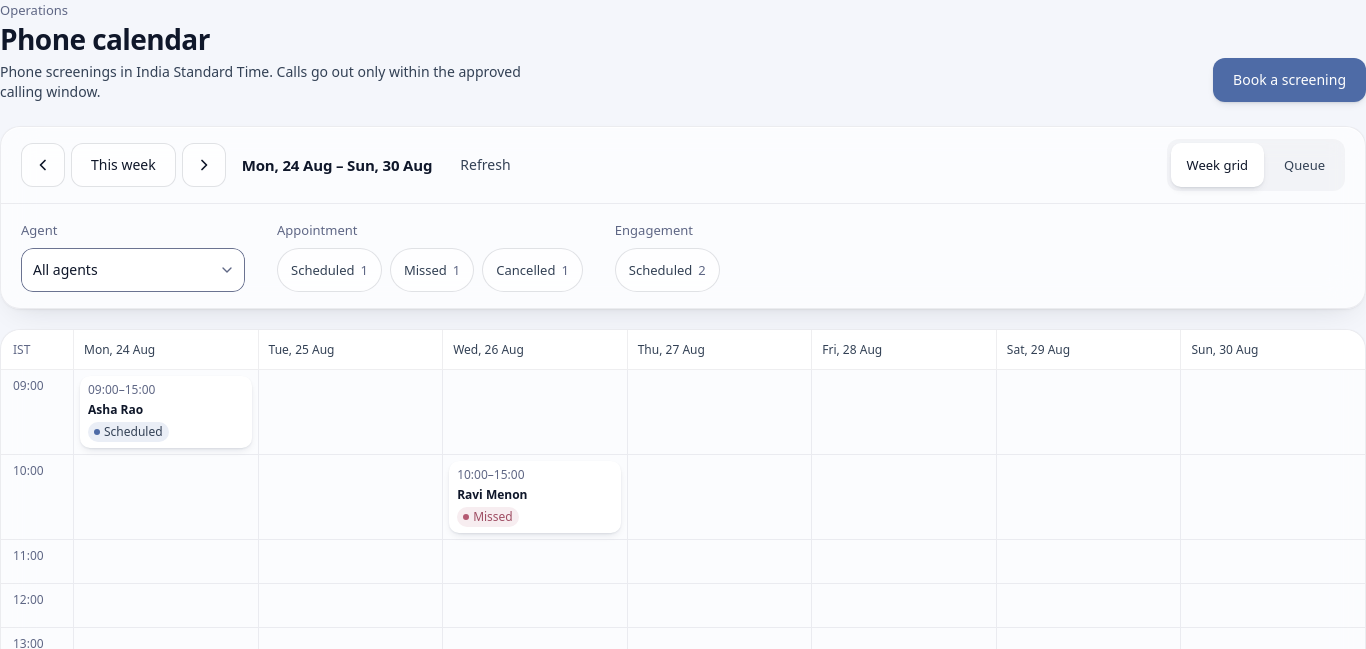
Test: palette — every colour utility resolves to a real token › uses no colour class the theme cannot resolve
The width and height of the screenshot is (1366, 649).
What coordinates should you click on to do the following:
click the button with aria-label "ATS-4417"
I would click on:
 (166, 412)
Its box is [80,376,252,448].
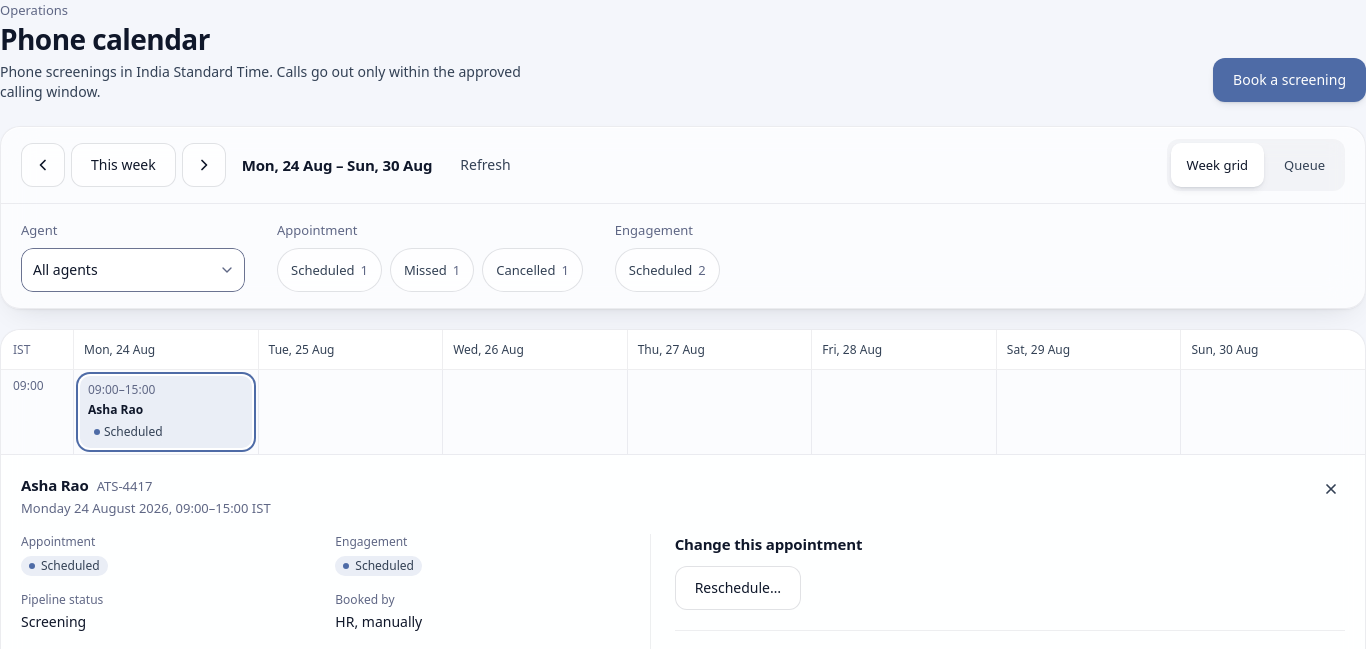
What coordinates should you click on to do the following:
click the button "Reschedule…"
I would click on:
 (738, 588)
Its box is [675,566,801,610].
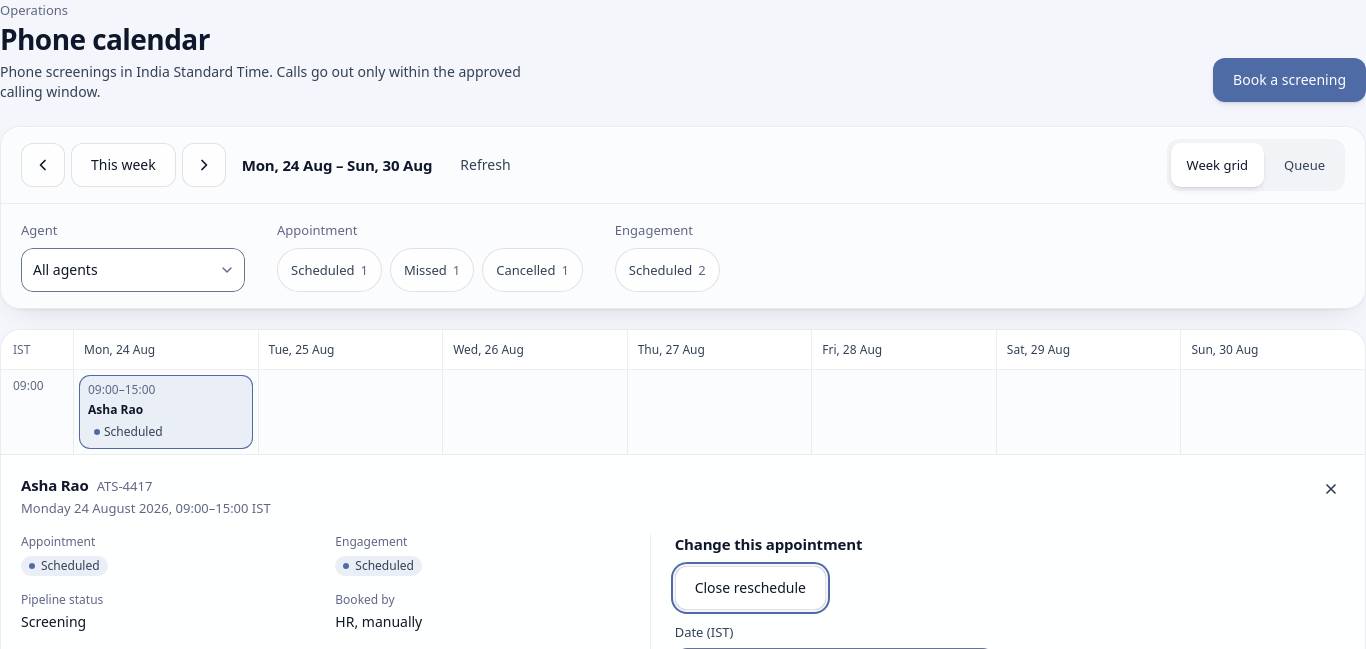
What coordinates should you click on to do the following:
click the button "Book a screening"
I would click on:
 (1290, 80)
Its box is [1213,58,1365,102].
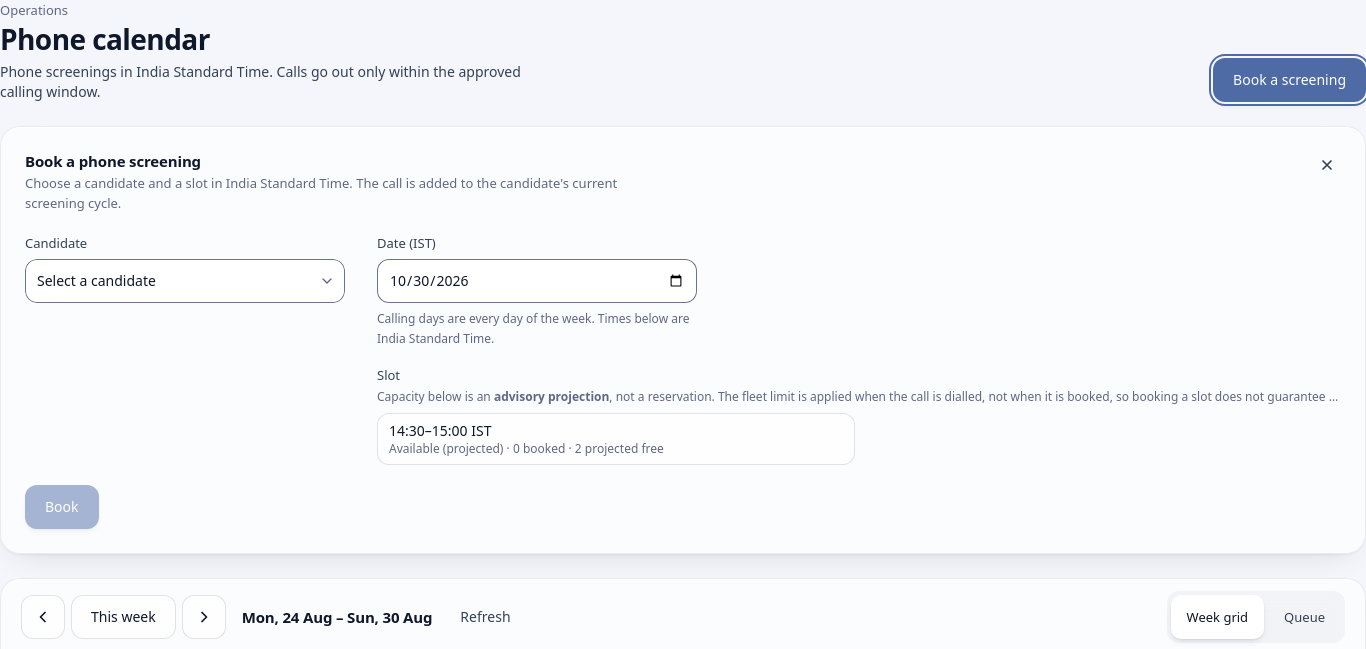
Check: the dropdown labelled "Candidate" is shown, box [25,259,345,303]
